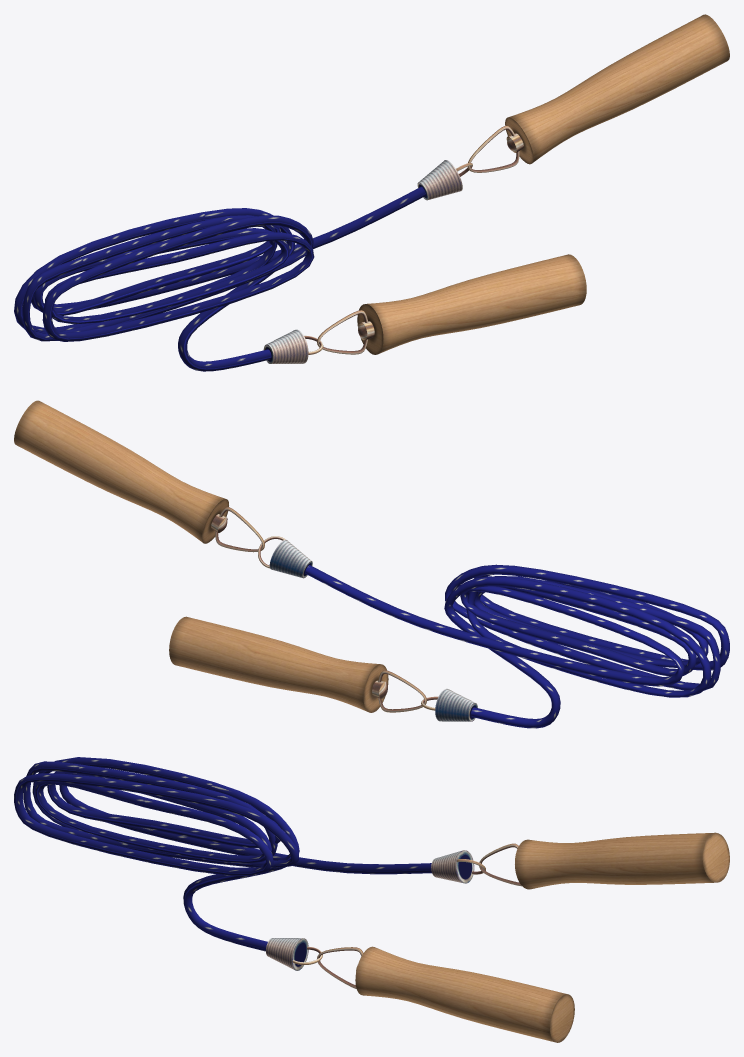
File: 10594_Jump_Rope_SG_v1_L3.obj
The picture shows the model from 3 angles, top to bottom: view 1: azimuth 30°, elevation 25°; view 2: azimuth 150°, elevation 25°; view 3: azimuth 330°, elevation 25°; orthographic projection. The views are drawn at different scales.
Parts seen in each view (by area): view 1: 10594_Jump_Rope; view 2: 10594_Jump_Rope; view 3: 10594_Jump_Rope.
Boxes of the visible parts, x1,y1,x2,y2 form: 10594_Jump_Rope: [14, 14, 729, 371]; 10594_Jump_Rope: [14, 400, 729, 728]; 10594_Jump_Rope: [14, 757, 729, 1042].
Bounding box in the file's own units: 45.66 × 14.96 × 5.15.
1 material, 1 textured.
